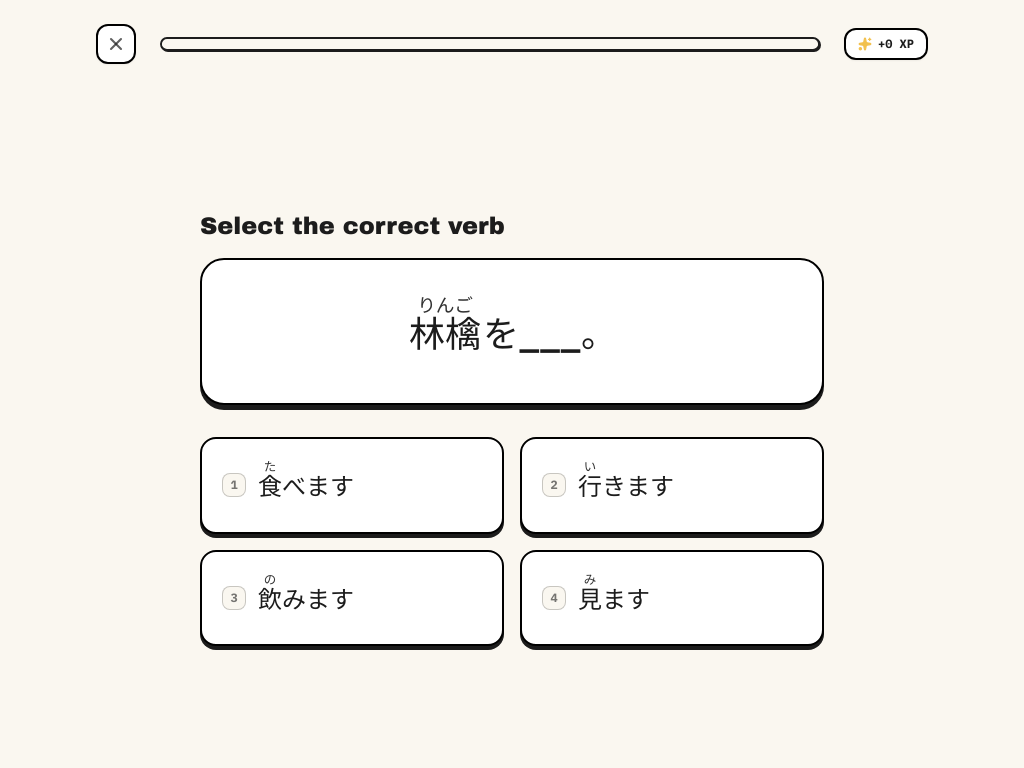
Scenario: VocabularyQuiz › opens DictionaryPopover when clicking a word in the sentence and allows bookmarking
Check: the text "林檎" is shown, box [409,305,481,357]
Note: Click the ruby word
What coordinates should you click on to do the following:
click the button titled "reading: りんご"
I would click on:
 (445, 331)
Its box is [407,292,483,371].
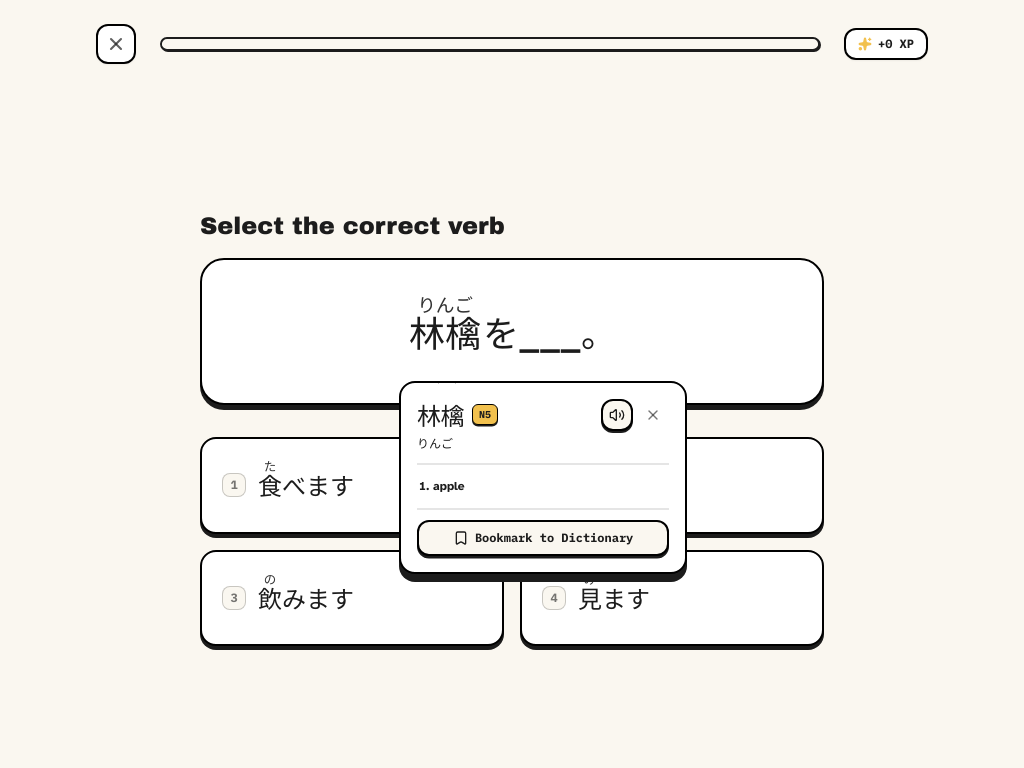
Check: the list item "apple" is shown, box [433,479,465,493]
Check: the text "N5" is shown, box [472,404,498,425]
Note: Click save/bookmark button
What coordinates should you click on to do the following:
click the button "Bookmark to Dictionary"
I would click on:
 (543, 538)
Its box is [417,520,669,556].
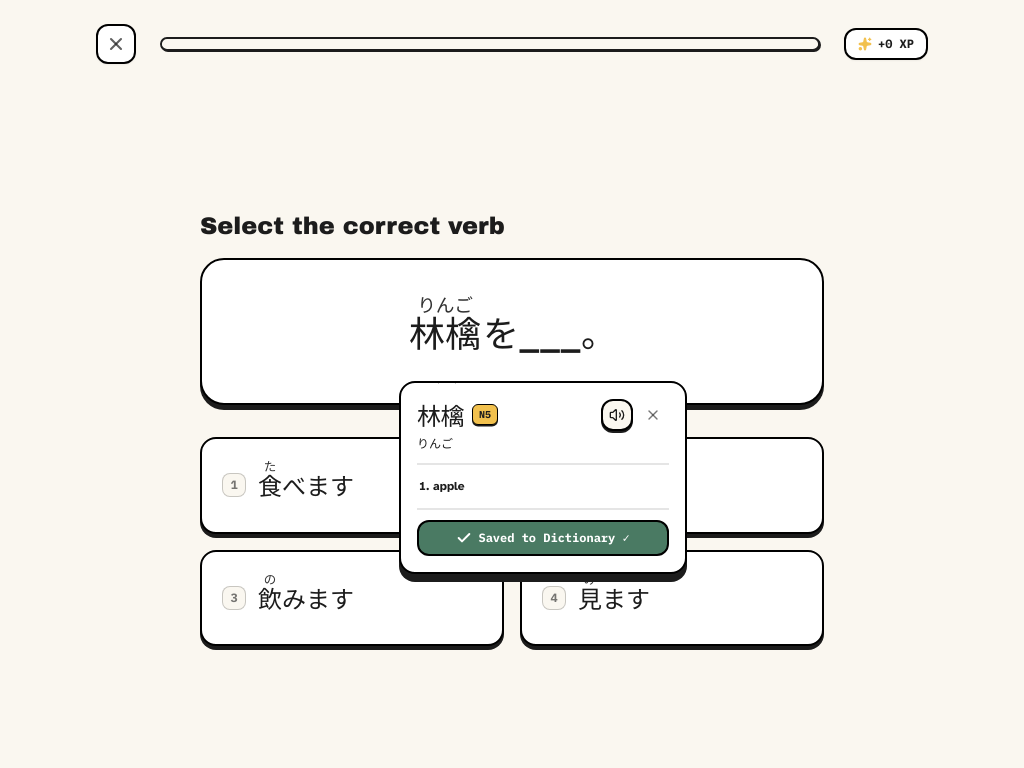
Check: the button "Saved to Dictionary ✓" is shown, box [417,520,669,556]
